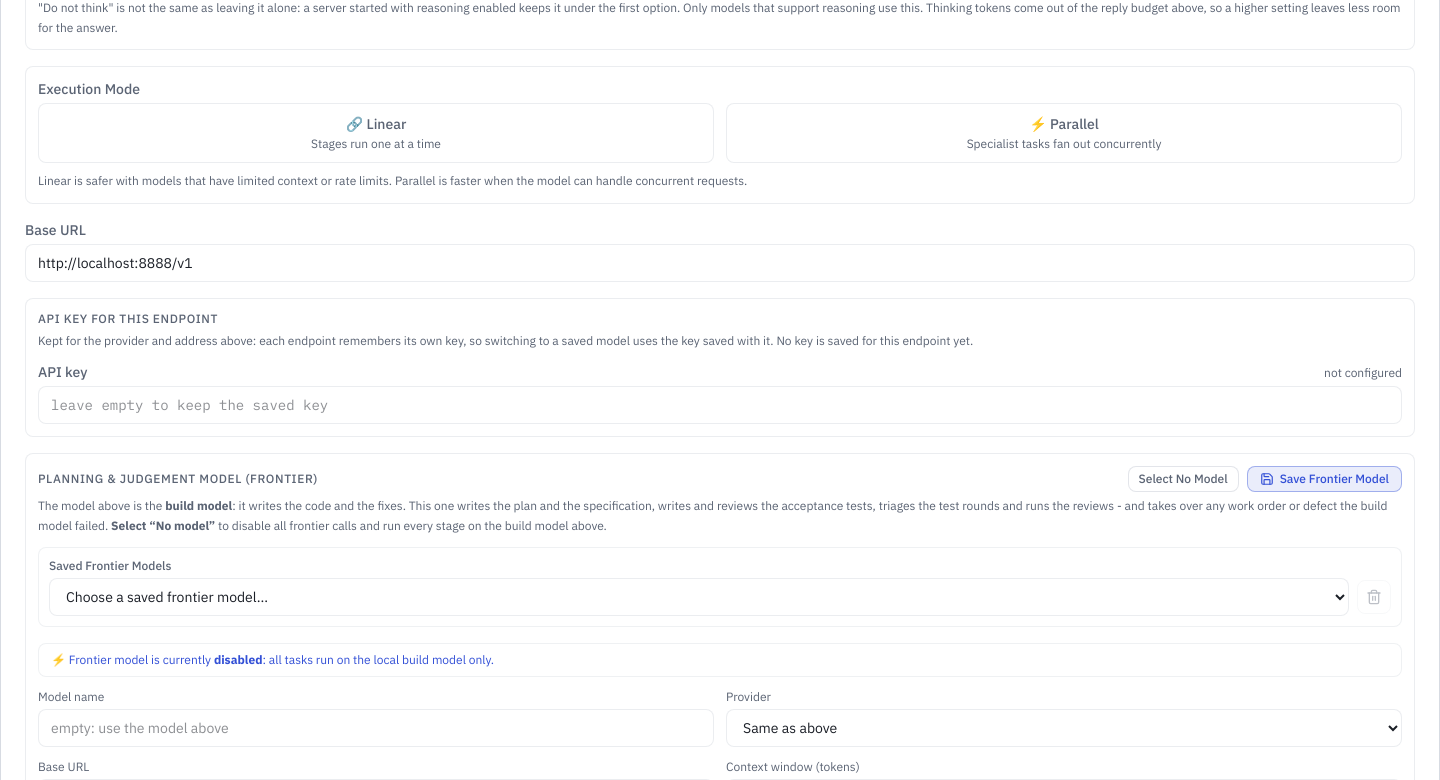
Test: Settings › keeps the focus in a key field while a key is typed
(page scrolled)
Click the password field labelled "API key" at (720, 405), box top-left (38, 386), bottom-right (1402, 424)
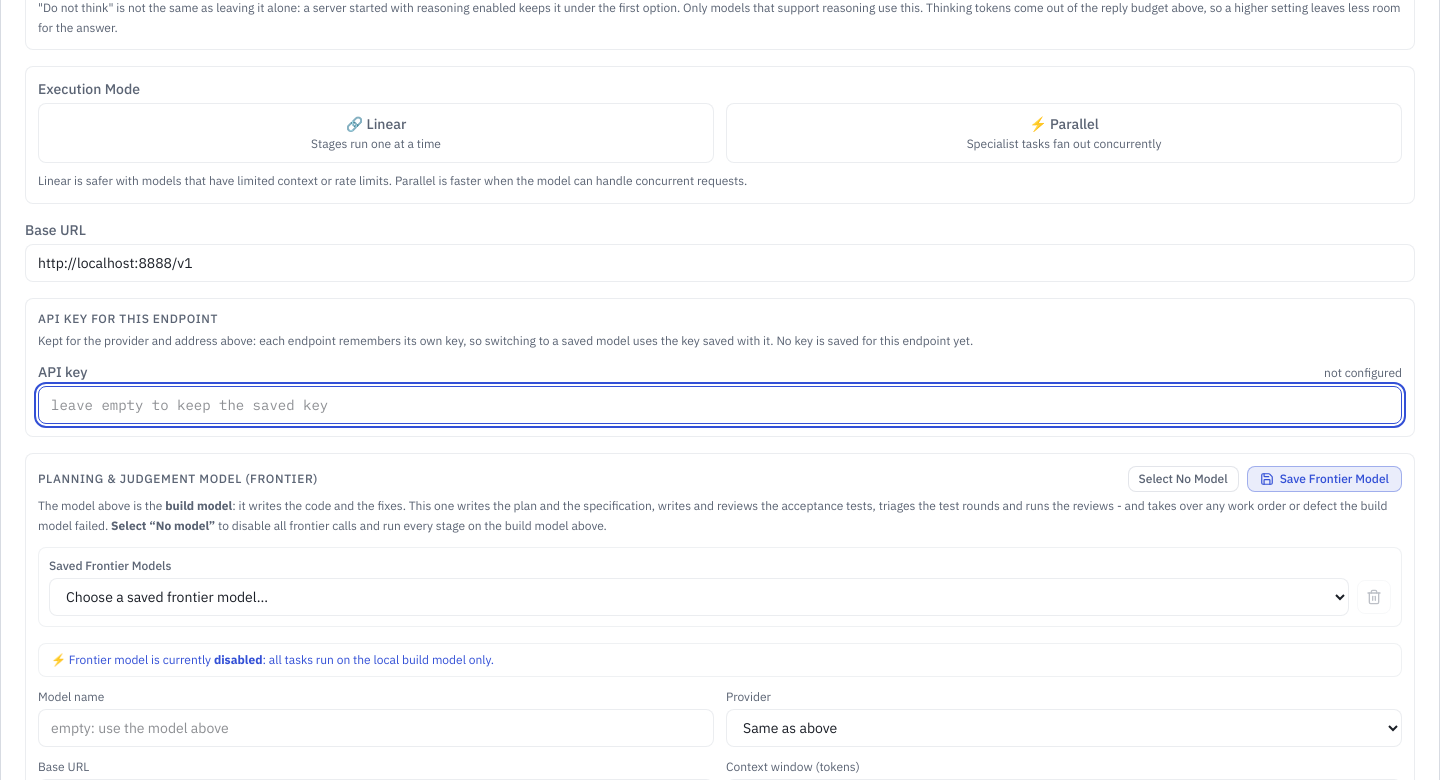
Type keys "sk-local"
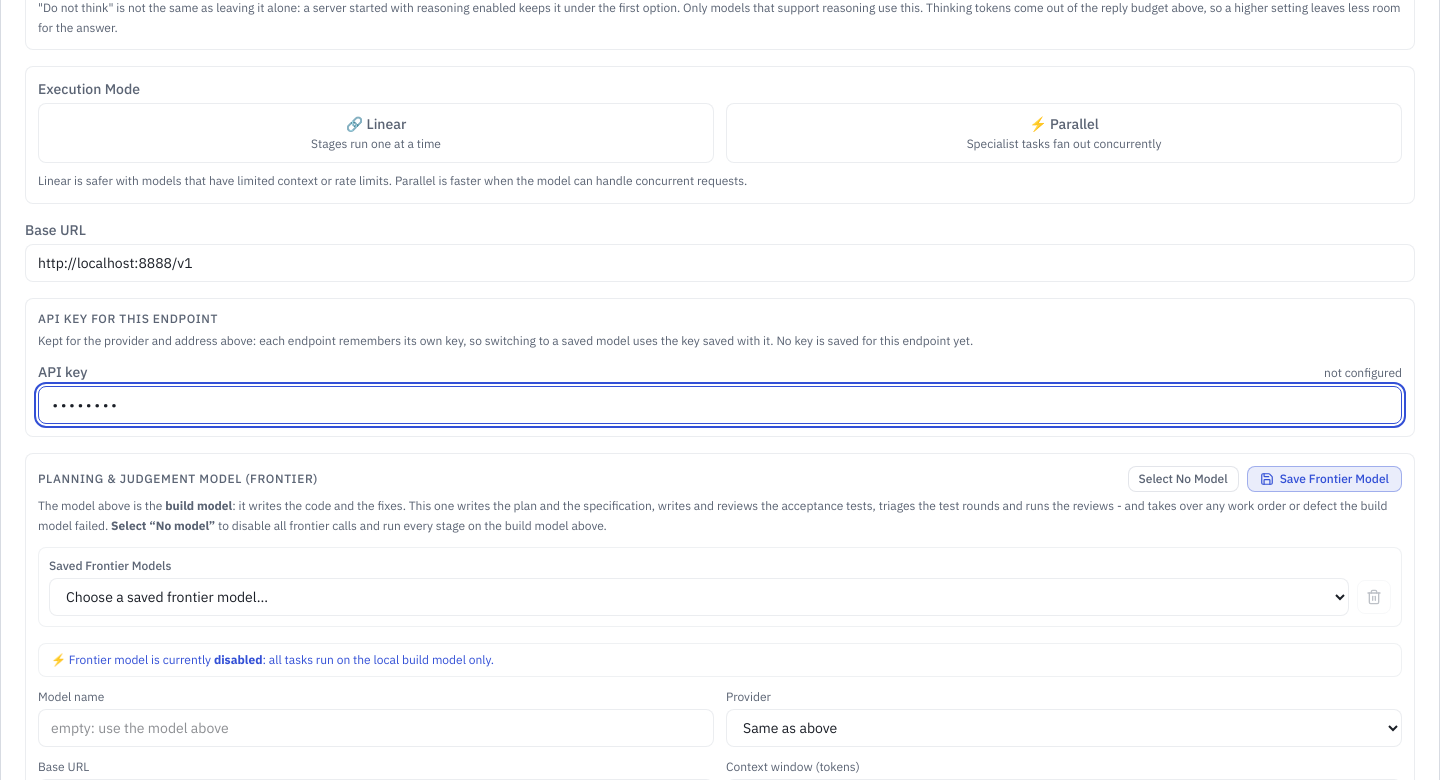
Check: the password field labelled "API key" holds "sk-local", box top-left (38, 386), bottom-right (1402, 424)
